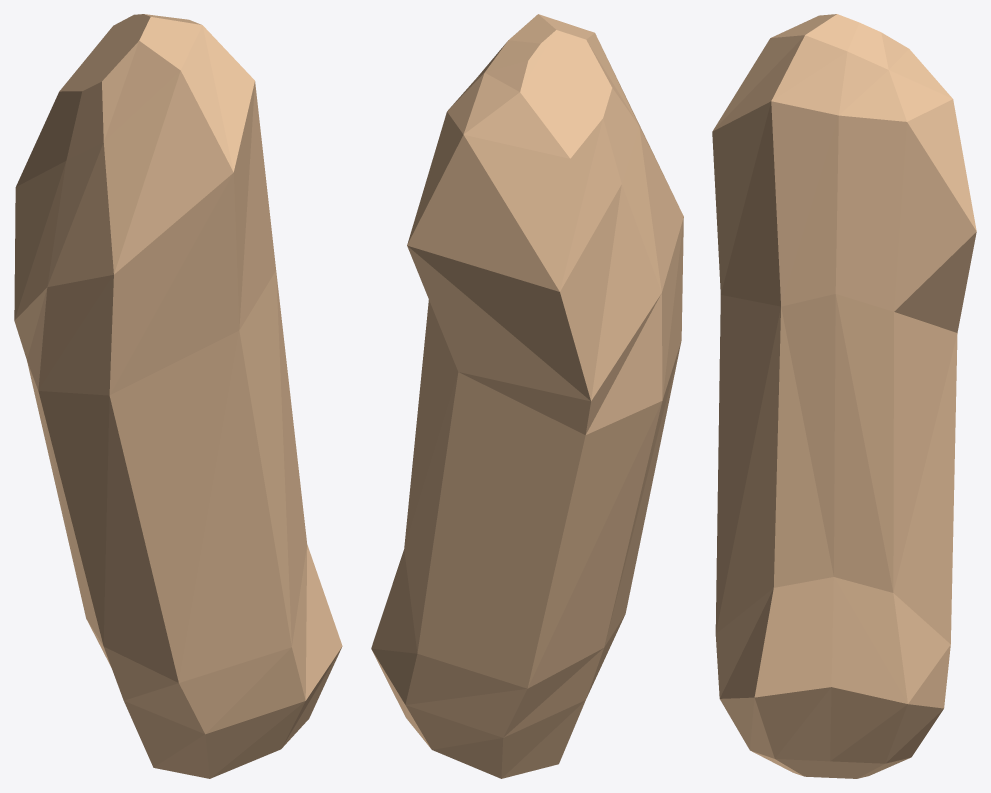
File: LFing10_mesh.dae
3 renders of one model, left to right at view 1: azimuth 30°, elevation 25°; view 2: azimuth 150°, elevation 25°; view 3: azimuth 270°, elevation 25°, orthographic. The views are drawn at different scales.
Parts seen in each view (by area): view 1: LFing10; view 2: LFing10; view 3: LFing10.
Boxes of the visible parts, x1,y1,x2,y2 form: LFing10: (14,14,342,778); LFing10: (371,14,683,778); LFing10: (712,14,976,778).
Size of the model in its own units: 0.0232 by 0.0643 by 0.021.
